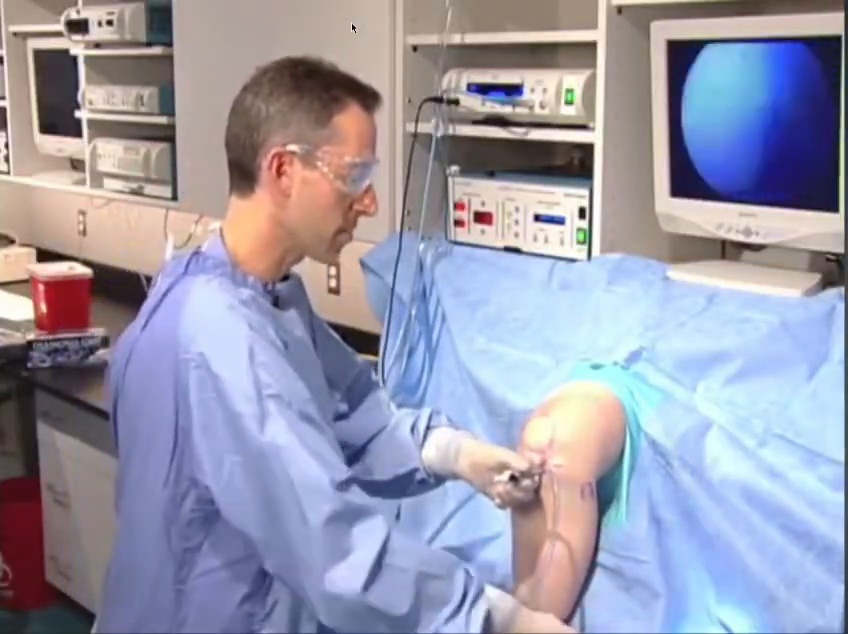probe: (680, 582, 766, 634)
